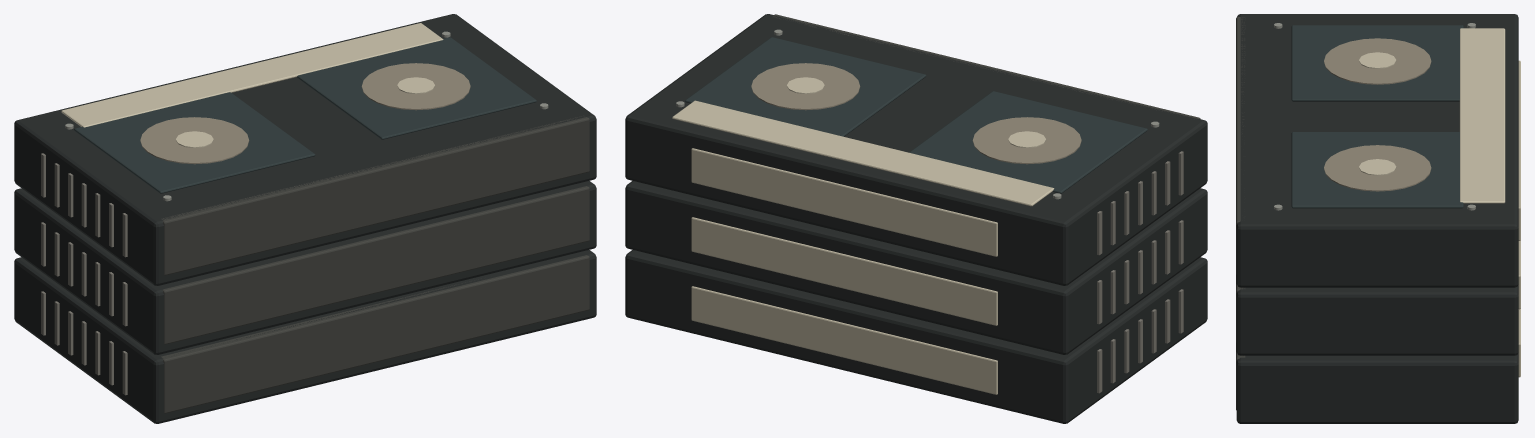
File: vhs.glb
The picture shows the model from 3 angles, left to right: view 1: azimuth 30°, elevation 25°; view 2: azimuth 150°, elevation 25°; view 3: azimuth 270°, elevation 25°; orthographic projection.
Visible parts, largest first — view 1: VHS_2_Body, VHS_2_Tape_Flap, VHS_0_Tape_Flap, VHS_1_Tape_Flap, VHS_1_Body, VHS_0_Body, VHS_2_Window, VHS_2_Window.001, VHS_2_Top_Label, VHS_2_Reel, VHS_2_Reel.001; view 2: VHS_2_Body, VHS_0_Body, VHS_1_Body, VHS_0_Spine_Label, VHS_2_Spine_Label, VHS_1_Spine_Label, VHS_2_Window, VHS_2_Window.001, VHS_2_Top_Label, VHS_2_Reel, VHS_2_Reel.001, VHS_2_Tape_Flap; view 3: VHS_2_Body, VHS_1_Body, VHS_0_Body, VHS_2_Window.001, VHS_2_Window, VHS_2_Top_Label, VHS_2_Reel.001, VHS_2_Reel, VHS_2_Tape_Flap, VHS_2_Spine_Label, VHS_2_Hub, VHS_2_Hub.001.
Boxes of the visible parts, x1,y1,x2,y2 form: VHS_2_Body: (14,14,596,285); VHS_2_Tape_Flap: (161,115,589,275); VHS_0_Tape_Flap: (161,255,589,413); VHS_1_Tape_Flap: (162,186,589,344); VHS_1_Body: (14,180,596,354); VHS_0_Body: (14,250,596,423); VHS_2_Window: (74,92,315,193); VHS_2_Window.001: (296,37,536,139); VHS_2_Top_Label: (61,23,443,127); VHS_2_Reel: (140,117,249,164); VHS_2_Reel.001: (361,63,470,110); VHS_2_Body: (625,14,1207,285); VHS_0_Body: (625,250,1207,423); VHS_1_Body: (625,180,1207,354); VHS_0_Spine_Label: (691,286,997,394); VHS_2_Spine_Label: (691,148,997,256); VHS_1_Spine_Label: (691,217,997,325); VHS_2_Window: (909,91,1147,193); VHS_2_Window.001: (685,37,926,136); VHS_2_Top_Label: (672,100,1054,206); VHS_2_Reel: (972,117,1081,164); VHS_2_Reel.001: (751,63,860,110); VHS_2_Tape_Flap: (773,14,1200,119); VHS_2_Body: (1236,14,1518,287); VHS_1_Body: (1236,284,1518,355); VHS_0_Body: (1236,353,1518,423); VHS_2_Window.001: (1291,132,1463,208); VHS_2_Window: (1291,25,1463,101); VHS_2_Top_Label: (1459,28,1505,203); VHS_2_Reel.001: (1324,145,1431,191); VHS_2_Reel: (1324,38,1431,84); VHS_2_Tape_Flap: (1236,17,1245,273); VHS_2_Spine_Label: (1518,60,1520,240); VHS_2_Hub: (1359,52,1396,68); VHS_2_Hub.001: (1359,159,1396,175).
Bounding box in the file's own units: 0.189 × 0.0843 × 0.106.
